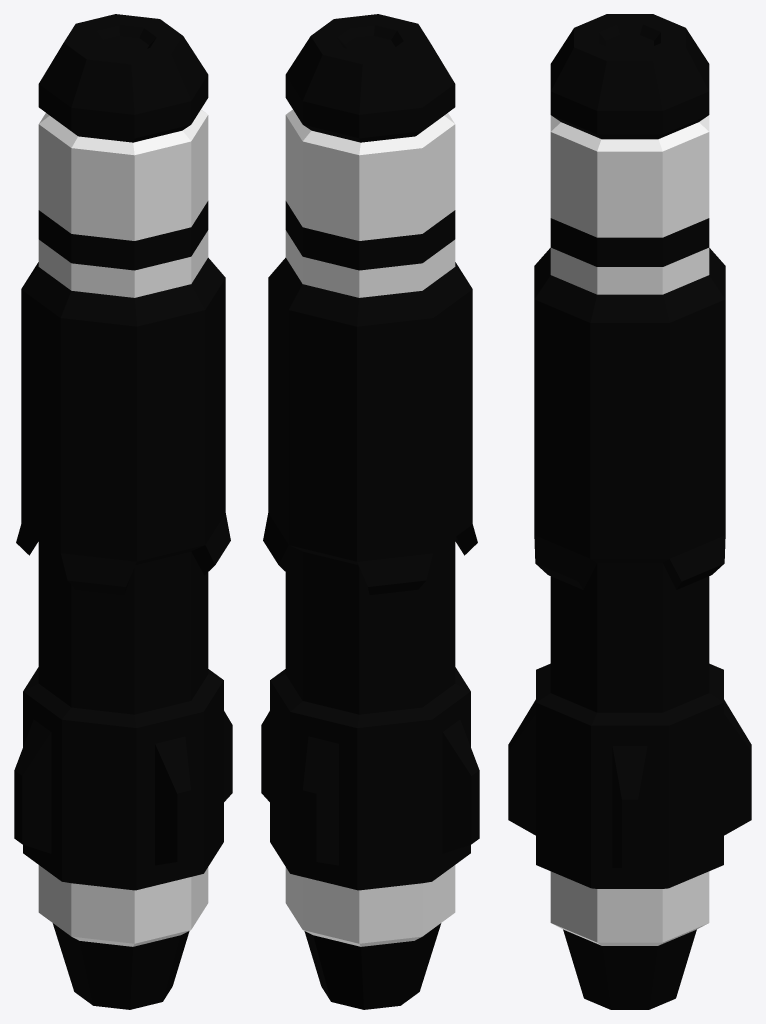
Rendered from space_SM_Prop_Missile_04.gltf.
The picture shows the model from 3 angles, left to right: view 1: azimuth 30°, elevation 25°; view 2: azimuth 150°, elevation 25°; view 3: azimuth 270°, elevation 25°; orthographic projection.
Visible parts, largest first — view 1: SM_Prop_Missile_04; view 2: SM_Prop_Missile_04; view 3: SM_Prop_Missile_04.
Boxes of the visible parts, x1,y1,x2,y2 form: SM_Prop_Missile_04: (14,14,232,1009); SM_Prop_Missile_04: (261,14,479,1009); SM_Prop_Missile_04: (508,14,751,1009).
Size of the model in its own units: 0.3346 by 1.45 by 0.3346.
1 material, 1 textured.
